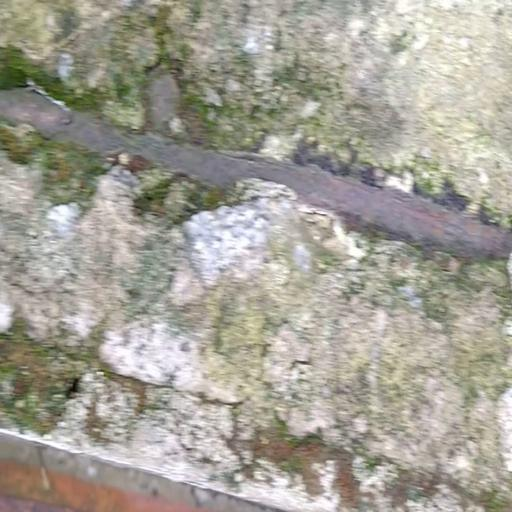spalling: (0, 16, 512, 489)
